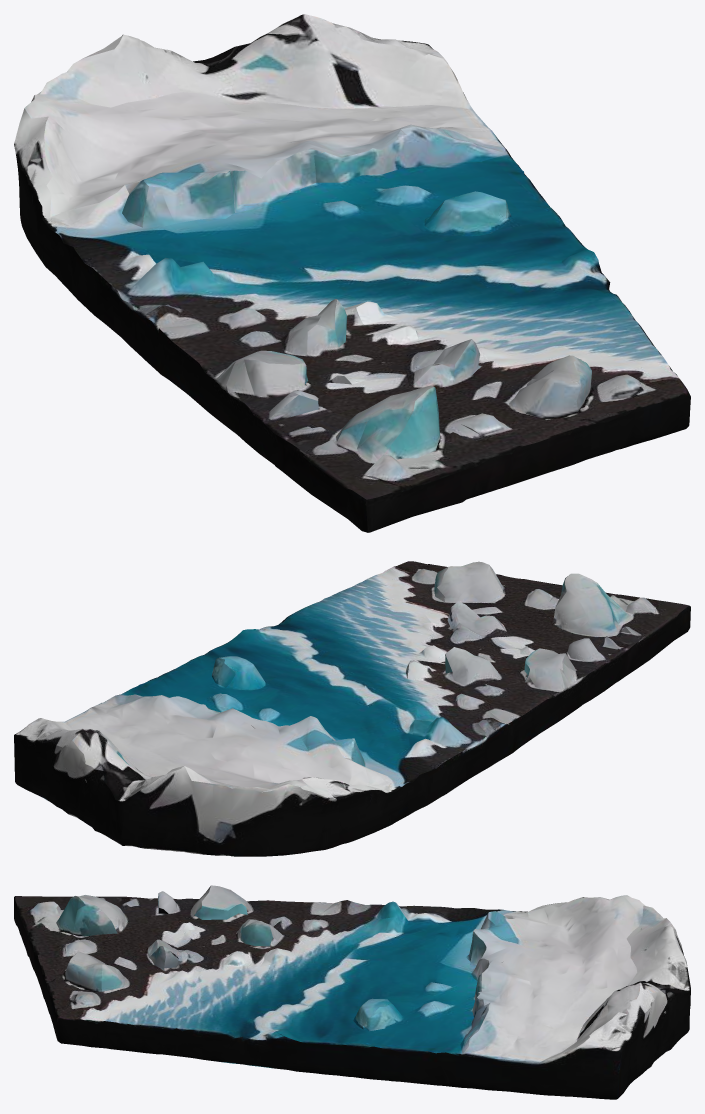
File: diamond-beach-iceland.glb
3 renders of one model, top to bottom at view 1: azimuth 30°, elevation 25°; view 2: azimuth 150°, elevation 25°; view 3: azimuth 270°, elevation 25°, orthographic. The views are drawn at different scales.
Visible parts, largest first — view 1: logan-textured.obj; view 2: logan-textured.obj; view 3: logan-textured.obj.
Boxes of the visible parts, x1,y1,x2,y2 form: logan-textured.obj: [14, 14, 690, 532]; logan-textured.obj: [14, 561, 690, 856]; logan-textured.obj: [14, 885, 690, 1099].
Size of the model in its own units: 0.5934 by 0.1365 by 1.
Materials: 1 (1 with a texture image).
